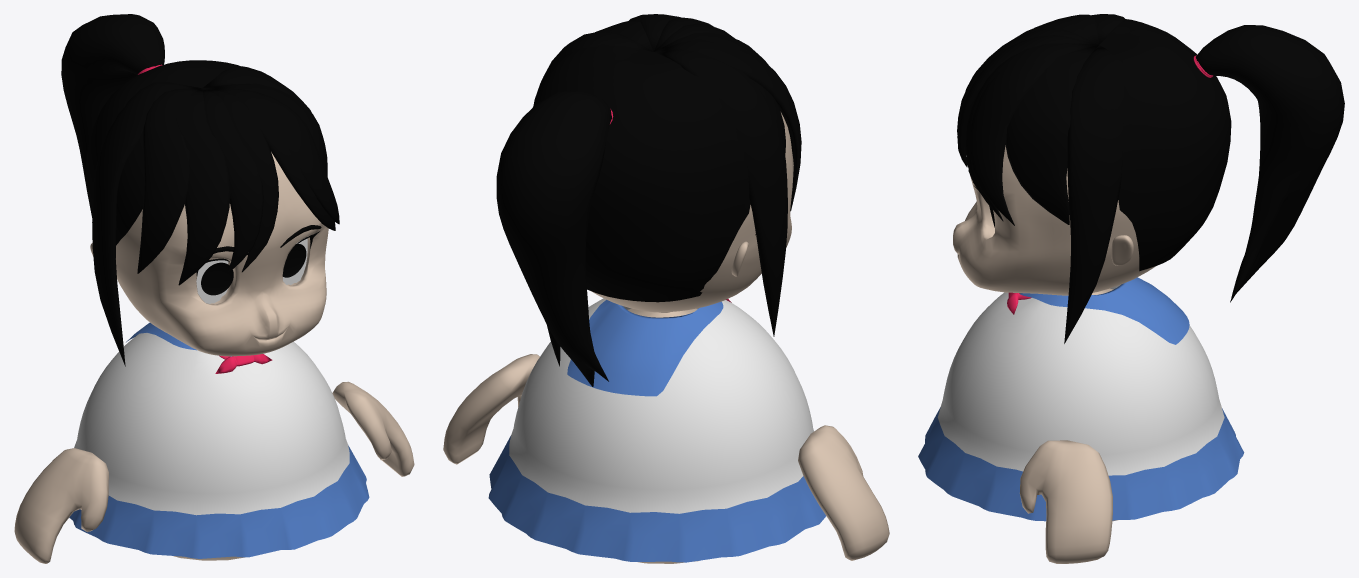
Rendered from PonieTailChara.fbx.
The picture shows the model from 3 angles, left to right: view 1: azimuth 30°, elevation 25°; view 2: azimuth 150°, elevation 25°; view 3: azimuth 270°, elevation 25°; orthographic projection. The views are drawn at different scales.
Visible parts, largest first — view 1: polySurface53; view 2: polySurface53; view 3: polySurface53.
Boxes of the visible parts, box(x1,y1,x2,y2) form: polySurface53: box(14, 14, 414, 563); polySurface53: box(443, 14, 889, 563); polySurface53: box(918, 14, 1344, 563).
Bounding box in the file's own units: 523 × 608 × 493.
